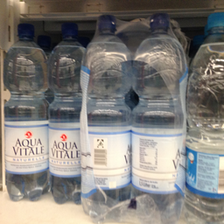water: (133, 13, 188, 223), (80, 12, 133, 224), (4, 22, 49, 203), (186, 11, 223, 223), (49, 20, 84, 206)
